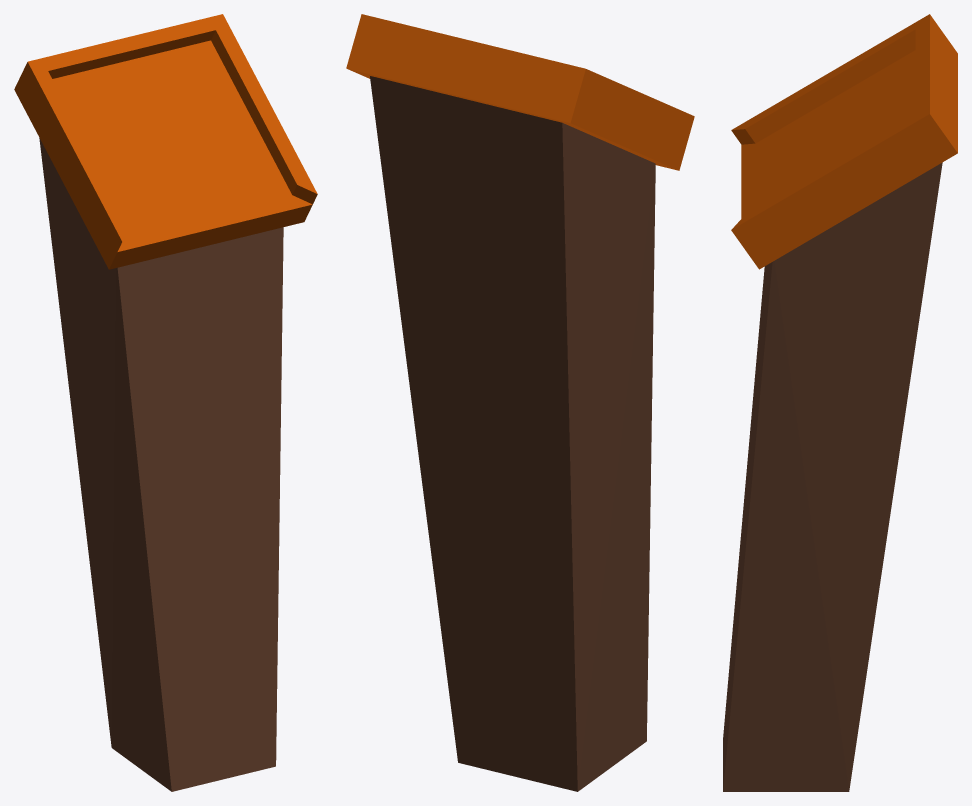
File: rack.dae
3 views of the same model, side by side, from view 1: azimuth 30°, elevation 25°; view 2: azimuth 150°, elevation 25°; view 3: azimuth 270°, elevation 25° (orthographic). The views are drawn at different scales.
Visible parts, largest first — view 1: Cube; view 2: Cube; view 3: Cube.
Part boxes in pixels (left/top/right/bottom): Cube: left=14, top=14, right=317, bottom=791; Cube: left=346, top=14, right=694, bottom=791; Cube: left=723, top=14, right=957, bottom=791.
Size of the model in its own units: 1.25 by 1.24 by 4.1.
Materials: 1 (1 with a texture image).
